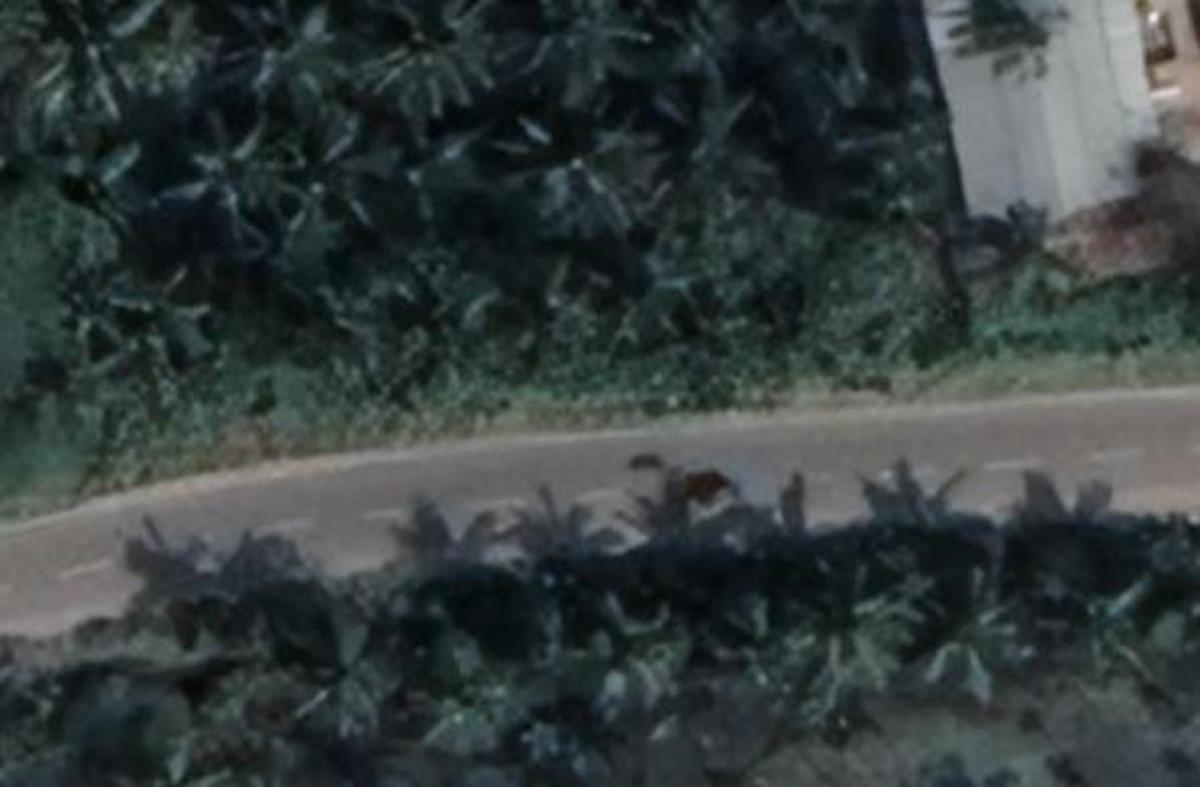coconut: (498, 96, 639, 217), (363, 0, 490, 131), (30, 6, 155, 131), (915, 569, 1044, 688), (207, 0, 336, 113), (159, 121, 280, 238), (655, 86, 772, 201), (574, 593, 687, 712), (100, 268, 219, 377), (405, 268, 514, 385), (1046, 554, 1155, 669), (296, 268, 407, 377), (387, 565, 494, 678), (282, 611, 381, 724), (598, 234, 699, 336), (514, 0, 649, 76), (796, 619, 895, 722), (986, 197, 1085, 300), (272, 127, 377, 221), (526, 565, 615, 667), (822, 546, 933, 625), (691, 569, 784, 663), (659, 8, 752, 100), (371, 129, 463, 213), (0, 0, 112, 34), (510, 712, 568, 764)
